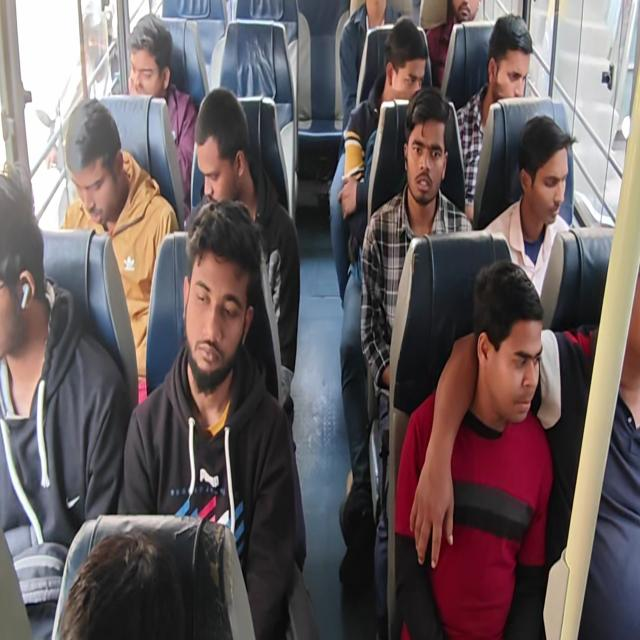person: (1, 1, 638, 638), (117, 198, 317, 638), (432, 115, 601, 577), (359, 86, 474, 636), (0, 161, 131, 638), (393, 260, 554, 638), (332, 14, 430, 585), (185, 86, 301, 428), (59, 98, 179, 404), (544, 262, 640, 639), (329, 17, 428, 304), (482, 114, 576, 299), (455, 13, 533, 221), (45, 4, 114, 224), (125, 13, 198, 217), (57, 528, 188, 639), (337, 0, 412, 159), (425, 0, 481, 89)
